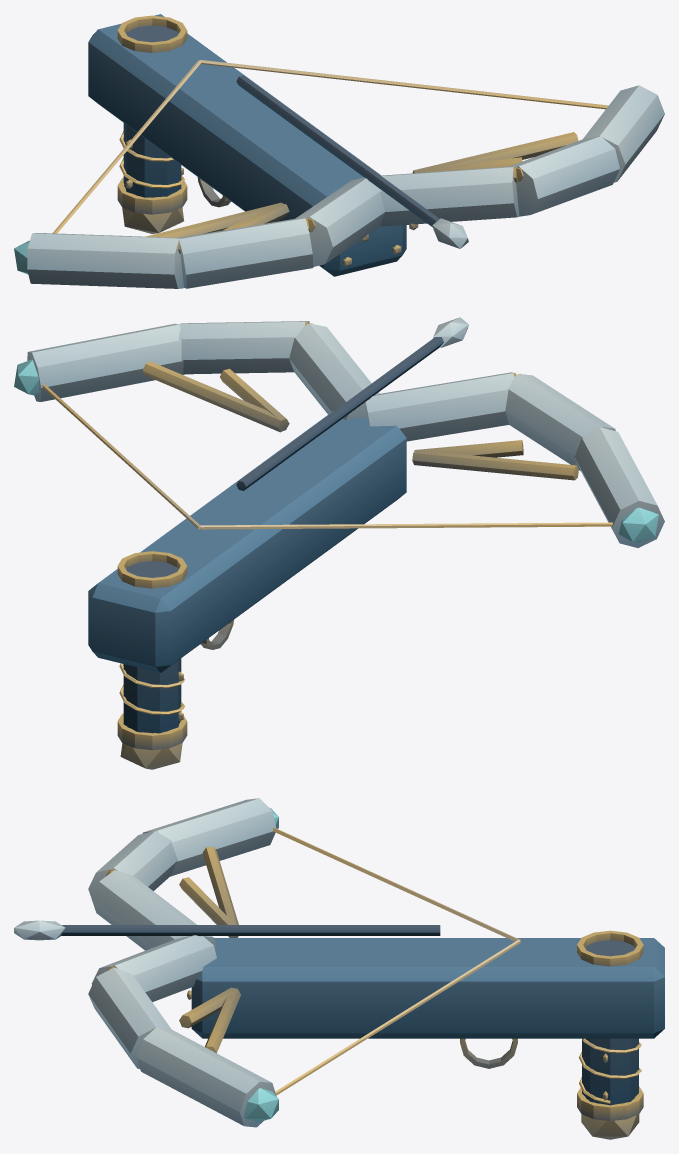
The model's file is ballesta_abanico_regio.glb.
The picture shows the model from 3 angles, top to bottom: view 1: azimuth 30°, elevation 25°; view 2: azimuth 150°, elevation 25°; view 3: azimuth 270°, elevation 25°; orthographic projection. The views are drawn at different scales.
Visible parts, largest first — view 1: ballesta_abanico_regio_finished; view 2: ballesta_abanico_regio_finished; view 3: ballesta_abanico_regio_finished.
Boxes of the visible parts, bbox=[...] form: ballesta_abanico_regio_finished: bbox=[14, 14, 664, 288]; ballesta_abanico_regio_finished: bbox=[14, 317, 664, 769]; ballesta_abanico_regio_finished: bbox=[14, 798, 664, 1139].
Size of the model in its own units: 1.16 by 0.4033 by 1.07.
2 materials, 2 textured.
